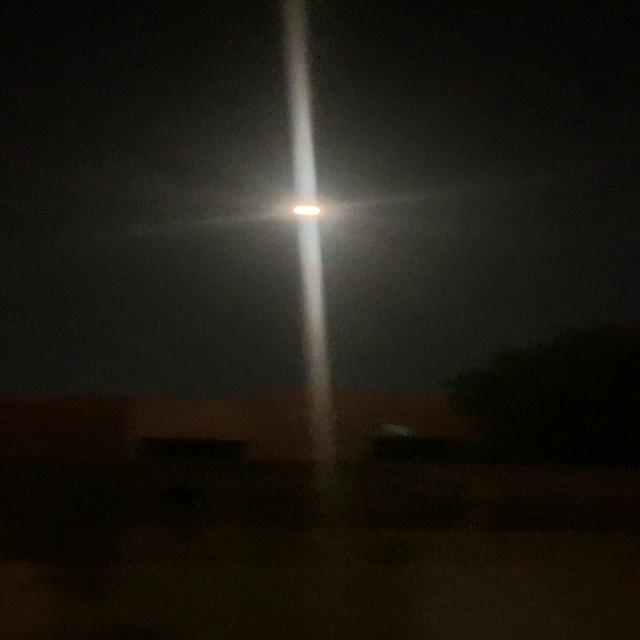moon: (278, 195, 340, 228)
